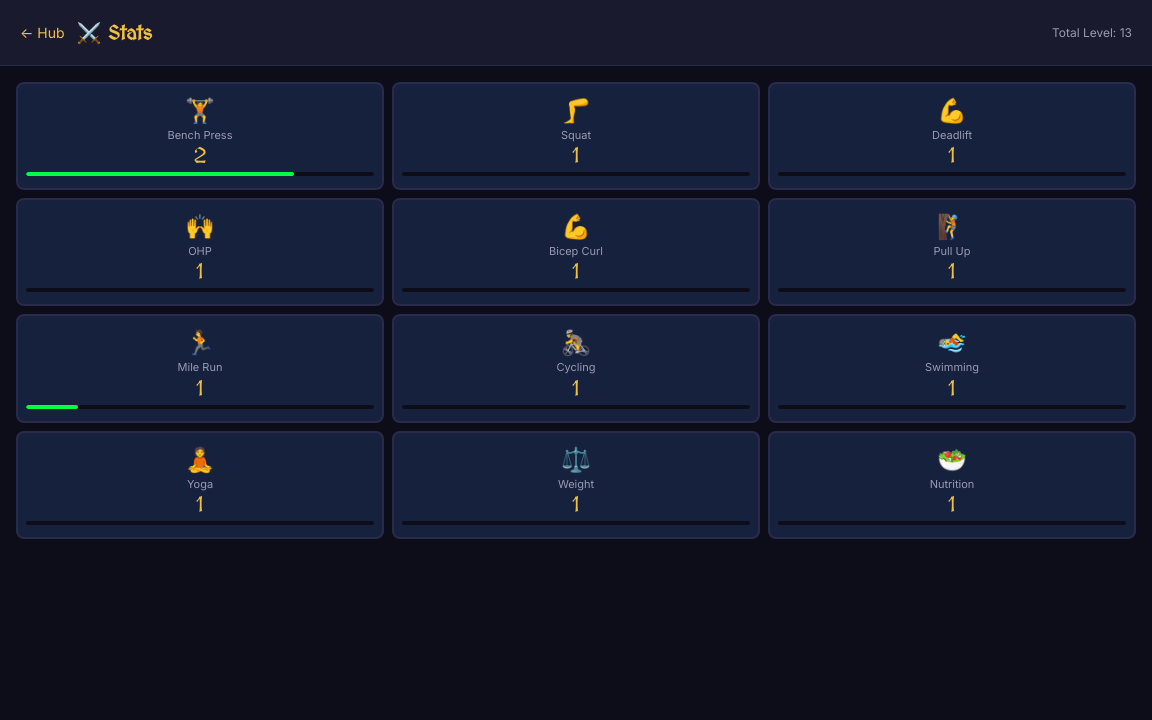
Test: StatsScreen › closes the dialog with Back and returns focus to the cell
Click the button with aria-label "Squat, level 1". click: (576, 136)
box: [392,82,760,190]
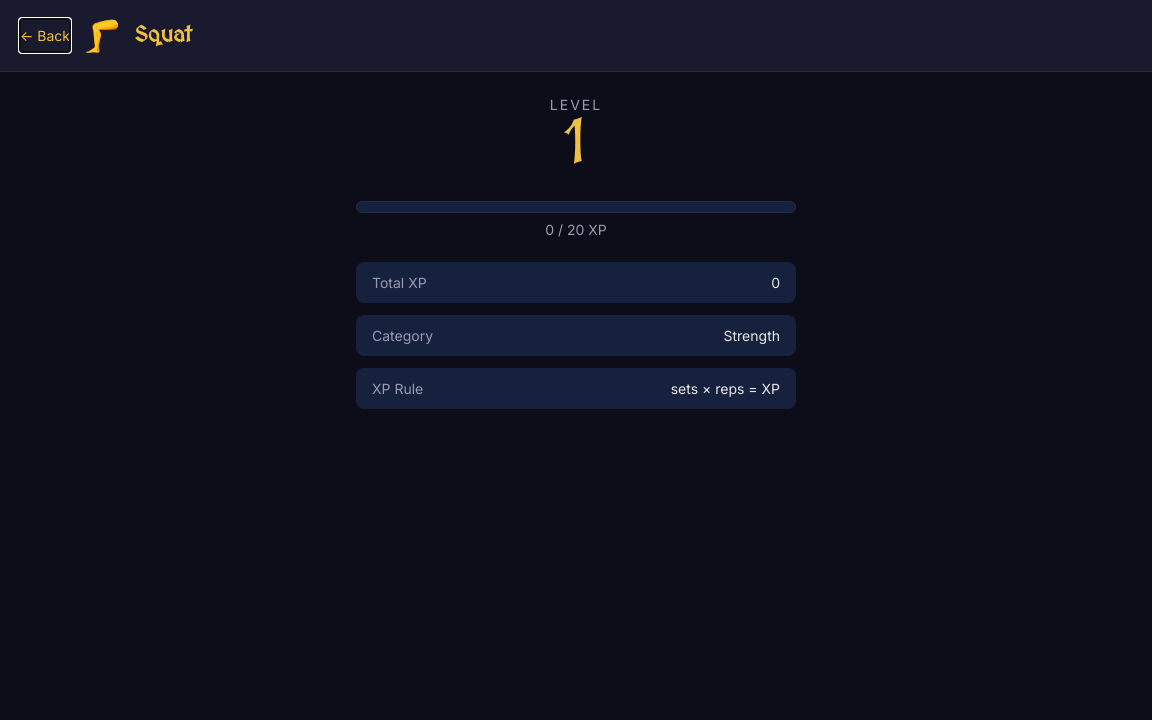
Expected: the dialog "Squat" is shown
Click the button "← Back". click: (45, 36)
box: [20,19,70,52]
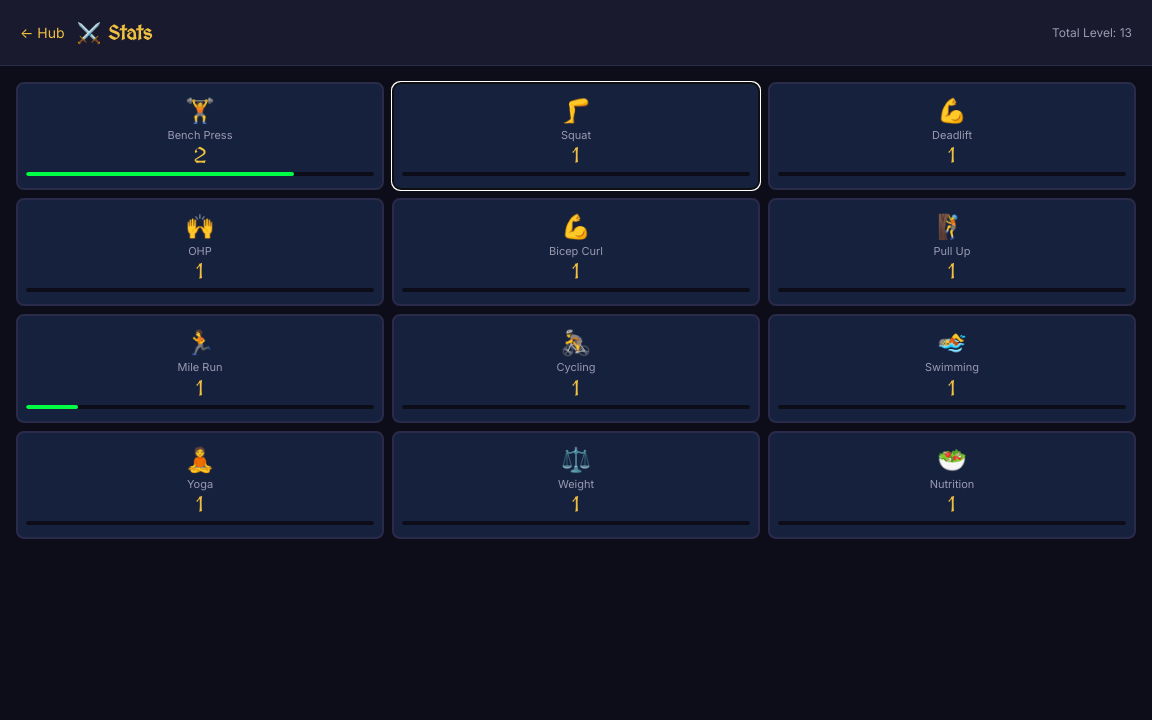
Expected: the dialog is gone
